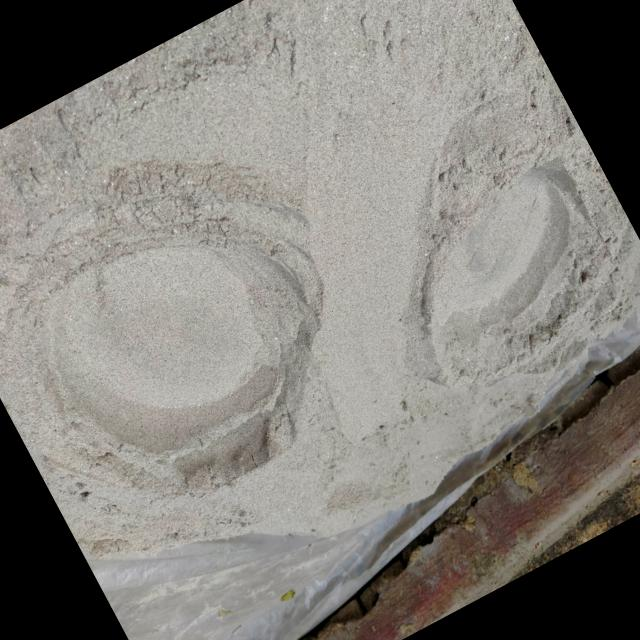C20: (41, 199, 319, 489), (419, 166, 576, 383)
